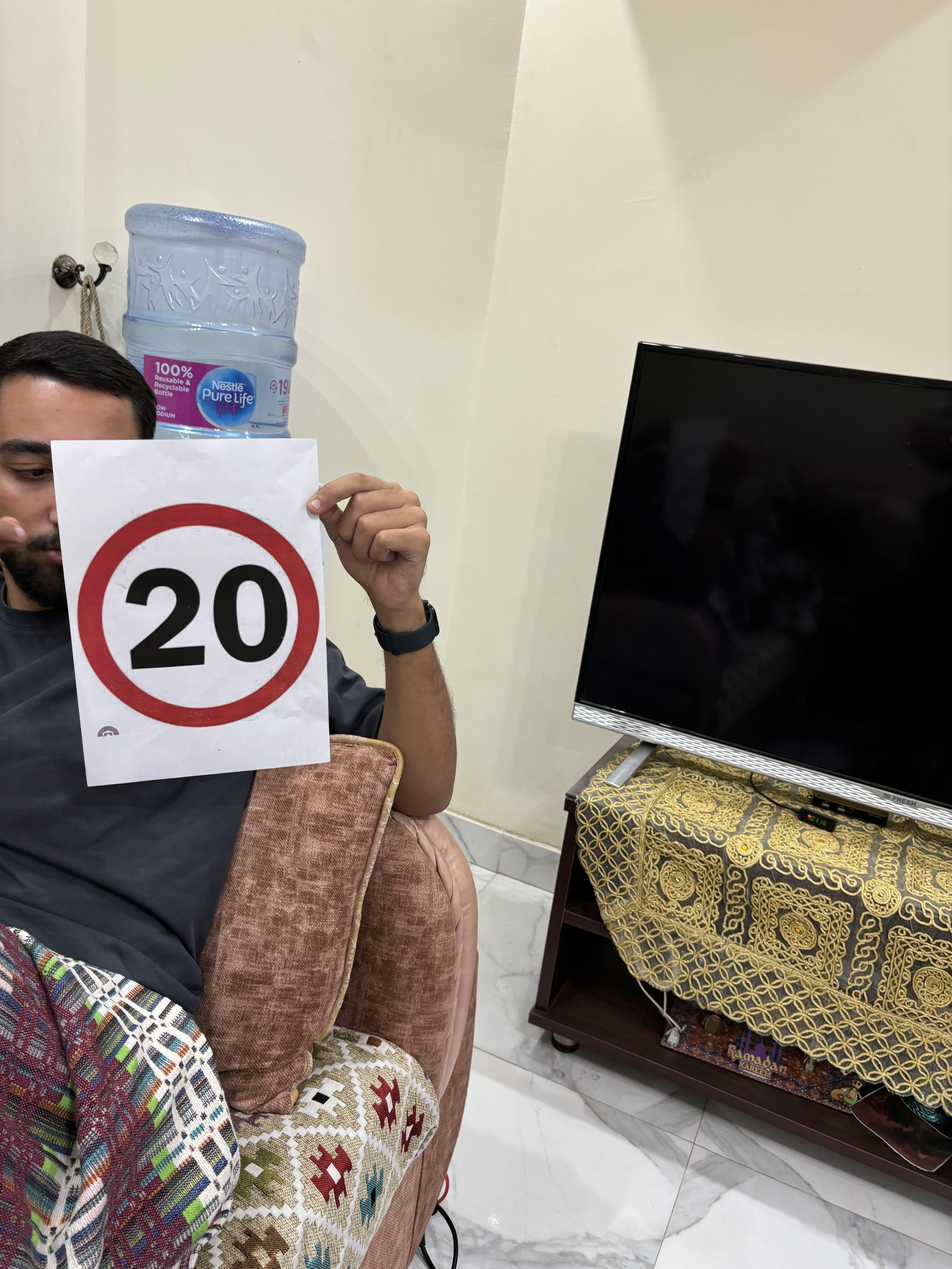20-Speed: (72, 496, 323, 732)
